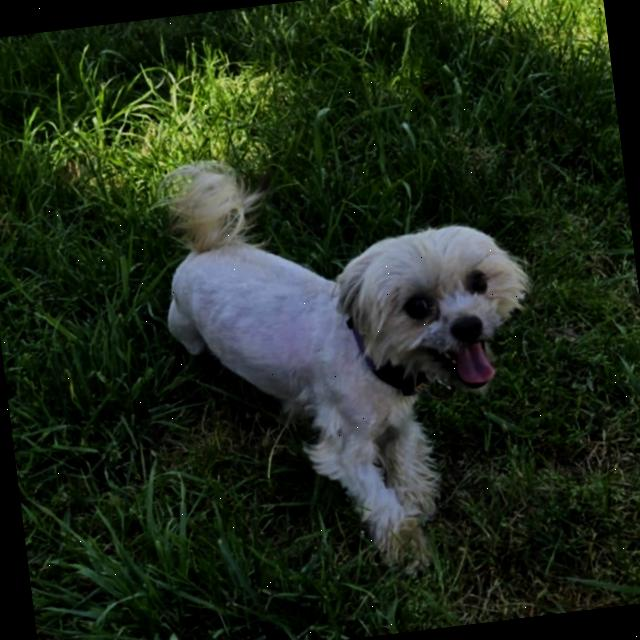shih_tzu_dog: (316, 207, 544, 426)
